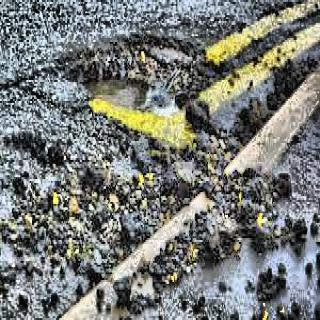pothole: (60, 32, 225, 121)
